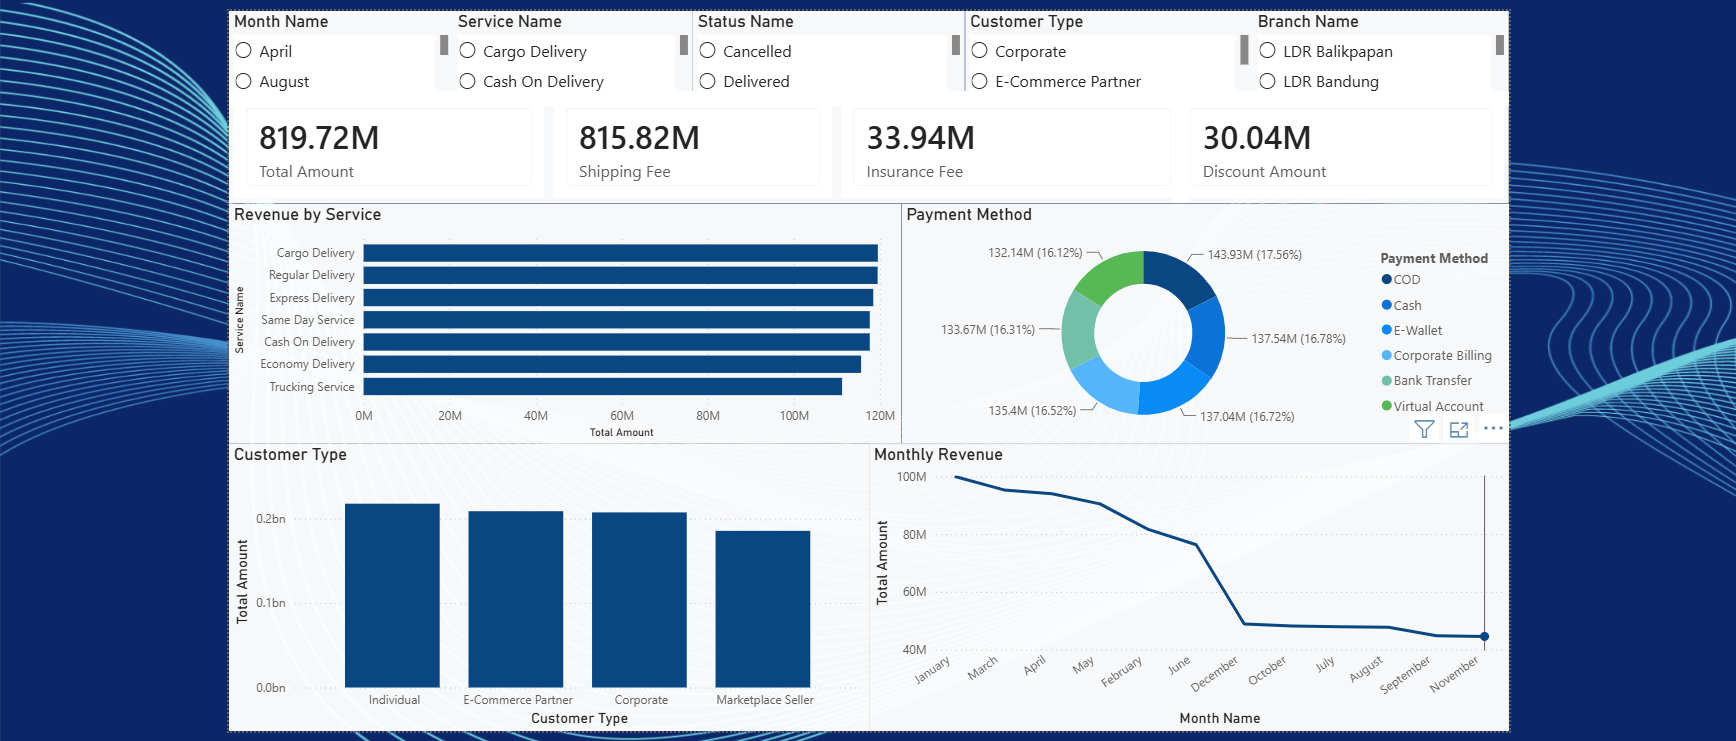

This screenshot's page, from the dashboard's own definition file:
{"tool":"powerbi","page":{"name":"Financial Analysis","canvas":[1280,720],"ordinal":2},"visuals":[{"type":"clusteredBarChart","title":"Revenue by Service","fields":{"Category":["Dim Service.Service Name"],"Y":["Fact Shipment.Total Amount"]},"box":[0,224,464,224],"z":0},{"type":"clusteredBarChart","title":"Payment Method","fields":{"Category":["Dim Payment.Payment Method"],"Y":["Fact Shipment.Total Amount"]},"box":[464,224,416,224],"z":1000},{"type":"barChart","title":"Customer Type","fields":{"Category":["Dim Customer.Customer Type"],"Y":["Fact Shipment.Total Amount"]},"box":[0,448,464,272],"z":2000},{"type":"lineChart","title":"Monthly Revenue","fields":{"Category":["Transaction Date.Month Name"],"Y":["Fact Shipment.Total Amount"]},"box":[464,448,416,272],"z":3000},{"type":"slicer","fields":{"Values":["Delivery Date.Month Name"]},"box":[0,0,320,96],"z":4000},{"type":"listSlicer","fields":{"Values":["Dim Service.Service Name"]},"box":[320,0,320,96],"z":5000},{"type":"listSlicer","fields":{"Values":["Dim Customer.Customer Type"]},"box":[640,0,320,96],"z":7000},{"type":"listSlicer","fields":{"Values":["Dim Payment.Payment Method"]},"box":[960,0,320,96],"z":8000},{"type":"cardVisual","fields":{"Data":["Fact Shipment.Total Amount"]},"box":[0,96,320,128],"z":9000},{"type":"cardVisual","fields":{"Data":["Fact Shipment.Shipping Fee"]},"box":[320,96,304,128],"z":10000},{"type":"cardVisual","fields":{"Data":["Fact Shipment.Insurance Fee"]},"box":[624,96,336,128],"z":11000},{"type":"cardVisual","fields":{"Data":["Fact Shipment.Discount Amount"]},"box":[944,96,336,128],"z":12000},{"type":"clusteredBarChart","title":"Revenue by Package Category","fields":{"Category":["Dim Package.Package Category"],"Y":["Fact Shipment.Total Amount"]},"box":[880,224,400,224],"z":13000},{"type":"clusteredBarChart","fields":{"Y":["Fact Shipment.Total Amount"],"Category":["Dim Package.Weight Category"]},"box":[880,448,400,272],"z":14000}]}

Visuals, with their boxes on the page's 1280x720 design canvas (x1, y1, x2, y2). These are canvas units, not pixel positions in the 1736x741 screenshot, which may show the page scaled, cropped or inside an application window:
"Revenue by Service" clusteredBarChart: select_region(0, 224, 464, 448)
"Payment Method" clusteredBarChart: select_region(464, 224, 880, 448)
"Customer Type" barChart: select_region(0, 448, 464, 720)
"Monthly Revenue" lineChart: select_region(464, 448, 880, 720)
slicer - Delivery Date.Month Name: select_region(0, 0, 320, 96)
listSlicer - Dim Service.Service Name: select_region(320, 0, 640, 96)
listSlicer - Dim Customer.Customer Type: select_region(640, 0, 960, 96)
listSlicer - Dim Payment.Payment Method: select_region(960, 0, 1280, 96)
cardVisual - Fact Shipment.Total Amount: select_region(0, 96, 320, 224)
cardVisual - Fact Shipment.Shipping Fee: select_region(320, 96, 624, 224)
cardVisual - Fact Shipment.Insurance Fee: select_region(624, 96, 960, 224)
cardVisual - Fact Shipment.Discount Amount: select_region(944, 96, 1280, 224)
"Revenue by Package Category" clusteredBarChart: select_region(880, 224, 1280, 448)
clusteredBarChart - Fact Shipment.Total Amount x Dim Package.Weight Category: select_region(880, 448, 1280, 720)
